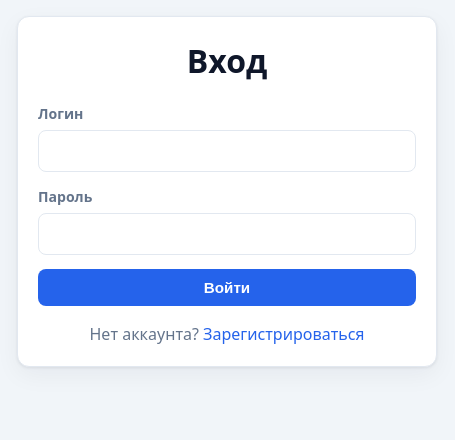
при неверном логине показывается ошибка
The image size is (455, 440).
Type "wrong" into the field labelled "Логин" at (227, 151), box [38,130,416,172]
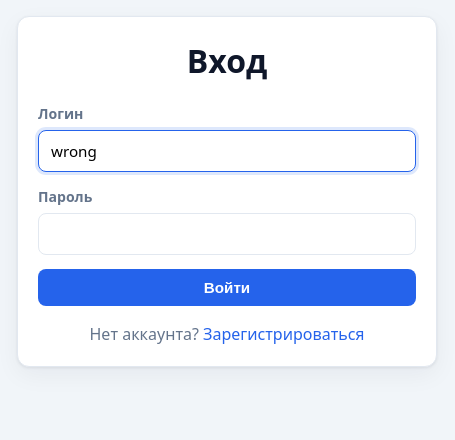
Type "wrong" into the password field labelled "Пароль" at (227, 234), box [38,213,416,255]
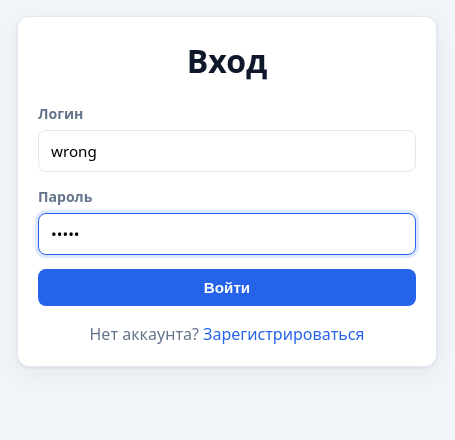
Click the button "Войти" at (227, 288), box [38,269,416,306]
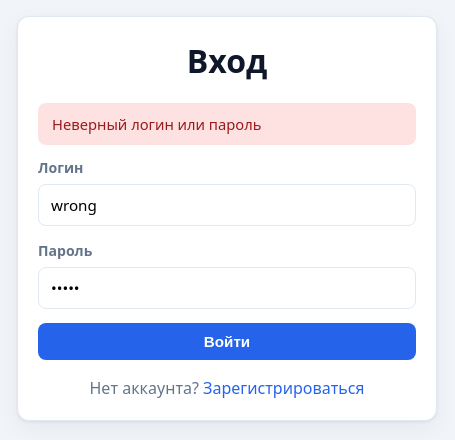
Expected: the text "Неверный логин или пароль" is shown, [38,103,416,145]
